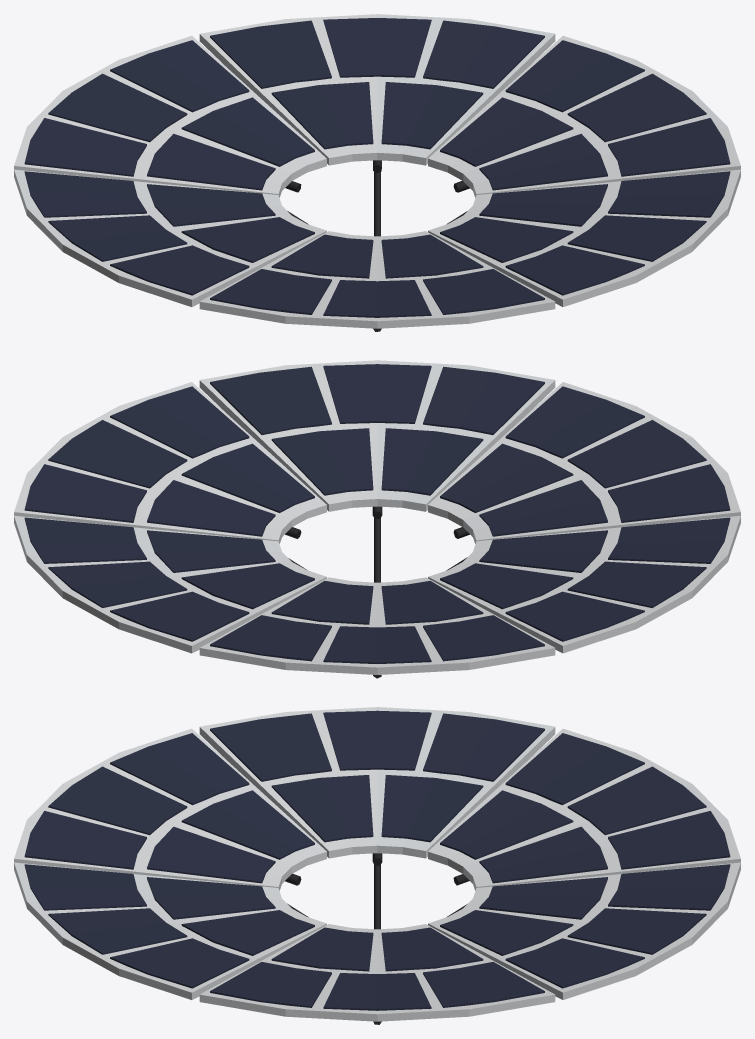
The model's file is pa100_array.obj.
3 renders of one model, top to bottom at view 1: azimuth 30°, elevation 25°; view 2: azimuth 150°, elevation 25°; view 3: azimuth 270°, elevation 25°, orthographic.
Parts seen in each view (by area): view 1: pa100_array; view 2: pa100_array; view 3: pa100_array.
Boxes of the visible parts, <box> form: pa100_array: <box>14,14,740,331</box>; pa100_array: <box>14,360,740,678</box>; pa100_array: <box>14,707,740,1024</box>.
Bounding box in the file's own units: 4.41 × 0.6842 × 4.41.
